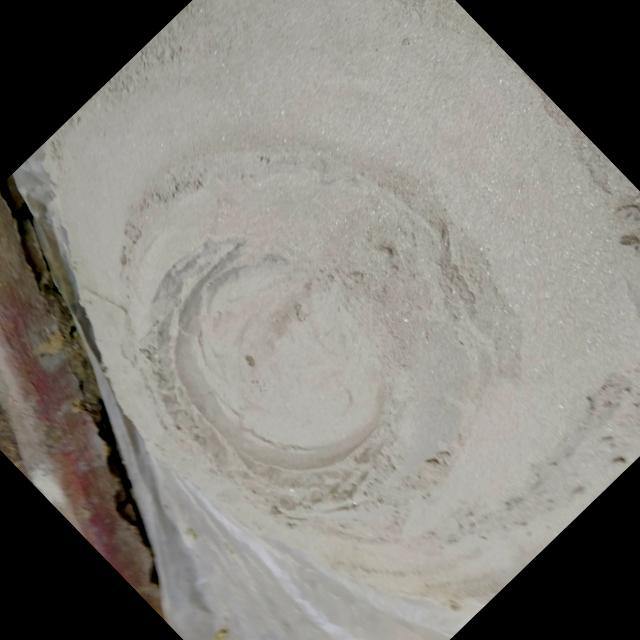C40: (175, 257, 383, 469)
